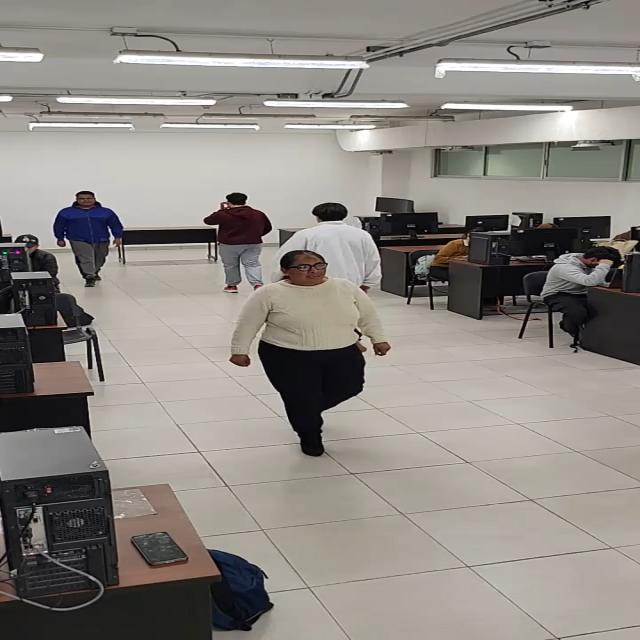Persona: (222, 246, 400, 464), (279, 201, 380, 297), (203, 192, 275, 292), (54, 190, 125, 288)
